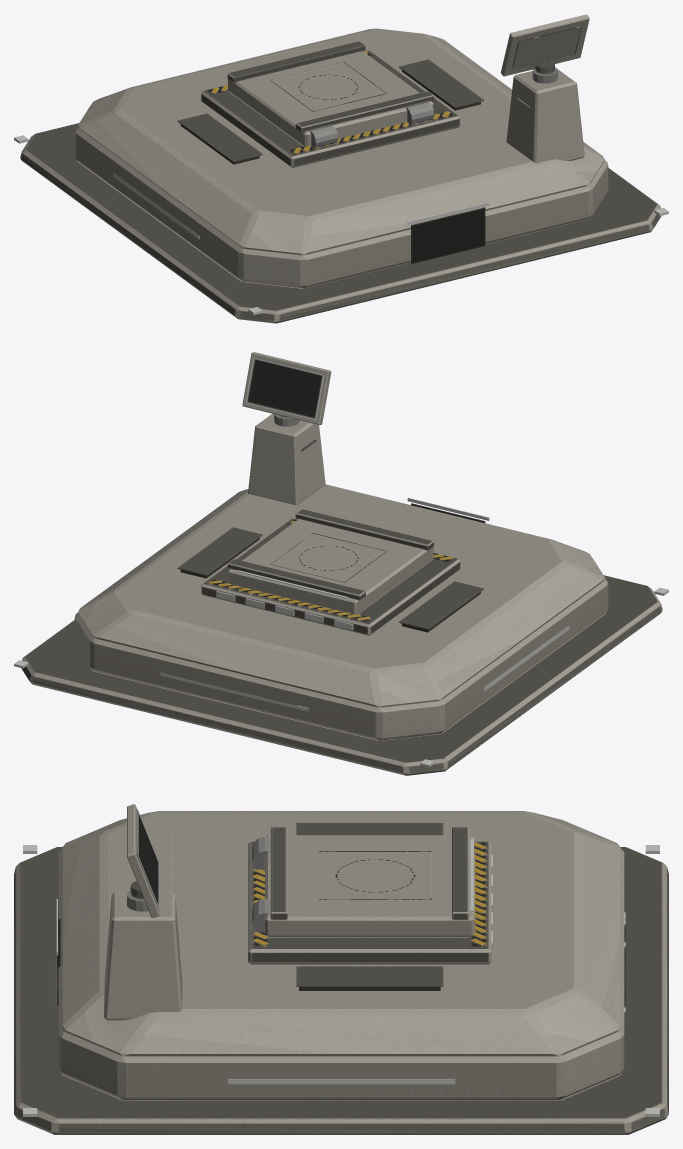
The model's file is ord_providence.fbx.
The picture shows the model from 3 angles, top to bottom: view 1: azimuth 30°, elevation 25°; view 2: azimuth 150°, elevation 25°; view 3: azimuth 270°, elevation 25°; orthographic projection. The views are drawn at different scales.
Parts seen in each view (by area): view 1: base_bar, hatch_bar, radar_bar, base_glow_running_bar; view 2: base_bar, hatch_bar, radar_bar, base_glow_running_bar, base_glow_weapon_bar; view 3: base_bar, hatch_bar, radar_bar, base_glow_running_bar.
Part boxes in pixels (<box>): base_bar: <box>20,28,661,323</box>; hatch_bar: <box>227,41,433,147</box>; radar_bar: <box>500,14,589,76</box>; base_glow_running_bar: <box>14,135,668,314</box>; base_bar: <box>21,413,662,775</box>; hatch_bar: <box>227,509,433,614</box>; radar_bar: <box>242,352,331,424</box>; base_glow_running_bar: <box>14,497,668,767</box>; base_glow_weapon_bar: <box>216,591,353,630</box>; base_bar: <box>14,811,668,1134</box>; hatch_bar: <box>252,827,474,936</box>; radar_bar: <box>127,804,159,917</box>; base_glow_running_bar: <box>23,845,659,1116</box>.
Size of the model in its own units: 2315 by 1186 by 2315.
Materials: 2 (2 with a texture image).
